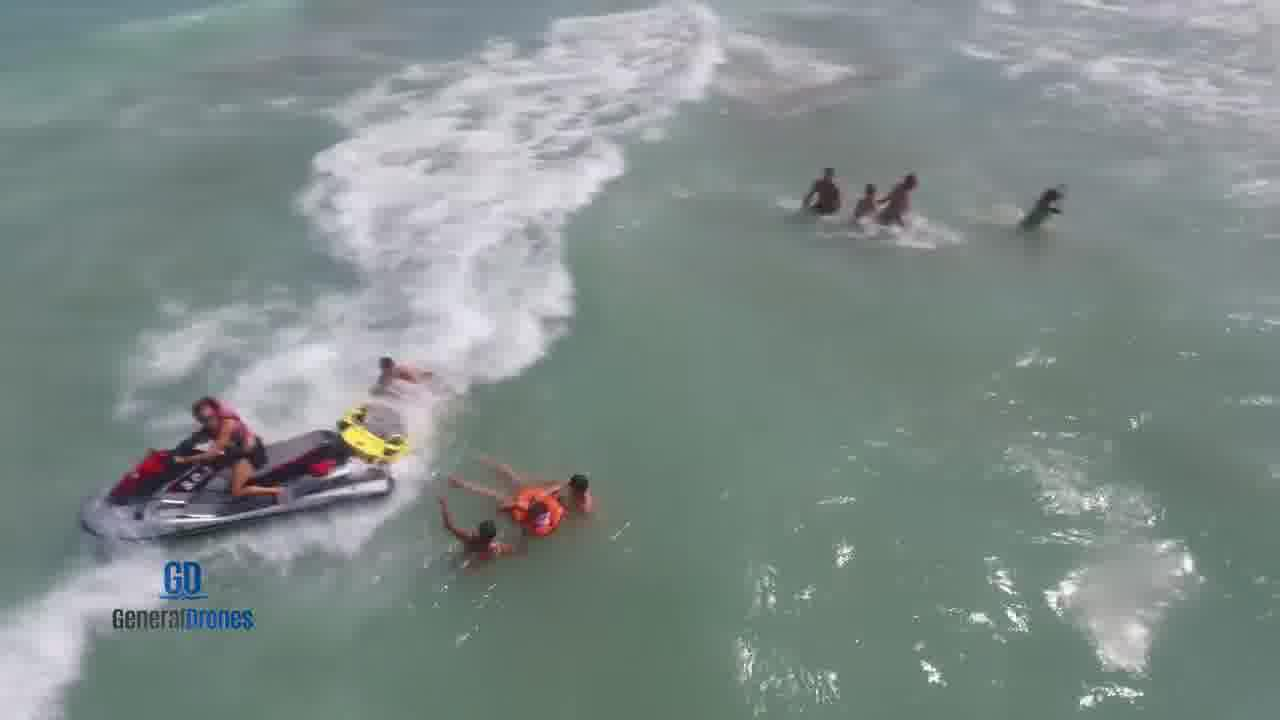swimmer: (451, 442, 564, 529), (430, 496, 528, 571), (547, 454, 617, 516)
